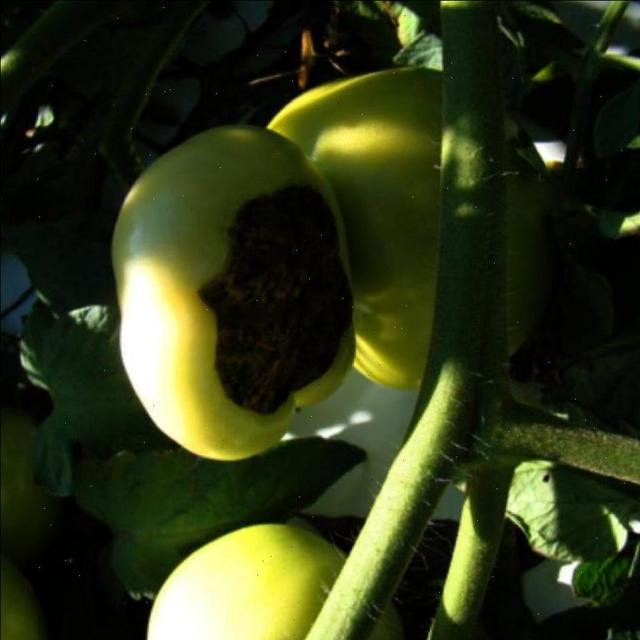Blossom End Rot Fruit: (132, 118, 238, 276)
